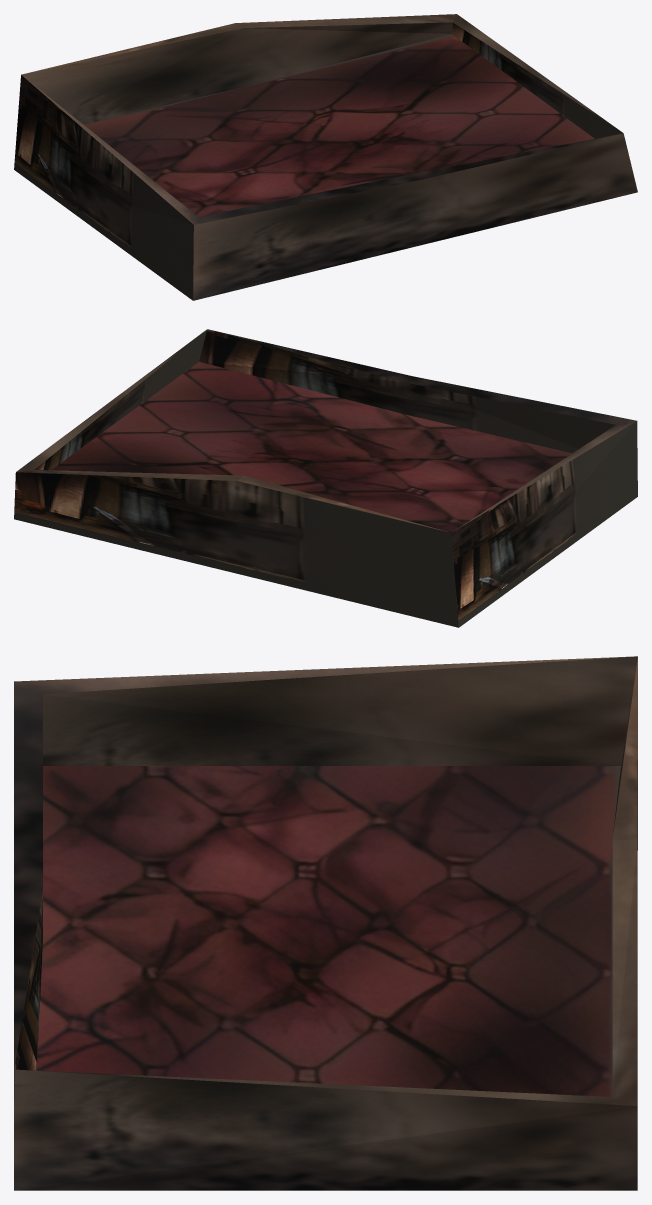
The model's file is burnedvillahouse.gltf.
3 renders of one model, top to bottom at view 1: azimuth 30°, elevation 25°; view 2: azimuth 150°, elevation 25°; view 3: azimuth 270°, elevation 25°, orthographic. The views are drawn at different scales.
Visible parts, largest first — view 1: burnedvillahouse_atomic0; view 2: burnedvillahouse_atomic0; view 3: burnedvillahouse_atomic0.
Part boxes in pixels (x1,y1,x2,y2): burnedvillahouse_atomic0: [14, 14, 637, 300]; burnedvillahouse_atomic0: [14, 329, 637, 627]; burnedvillahouse_atomic0: [14, 656, 637, 1190].
Bounding box in the file's own units: 18.92 × 3.79 × 13.2.
Materials: 1 (1 with a texture image).
